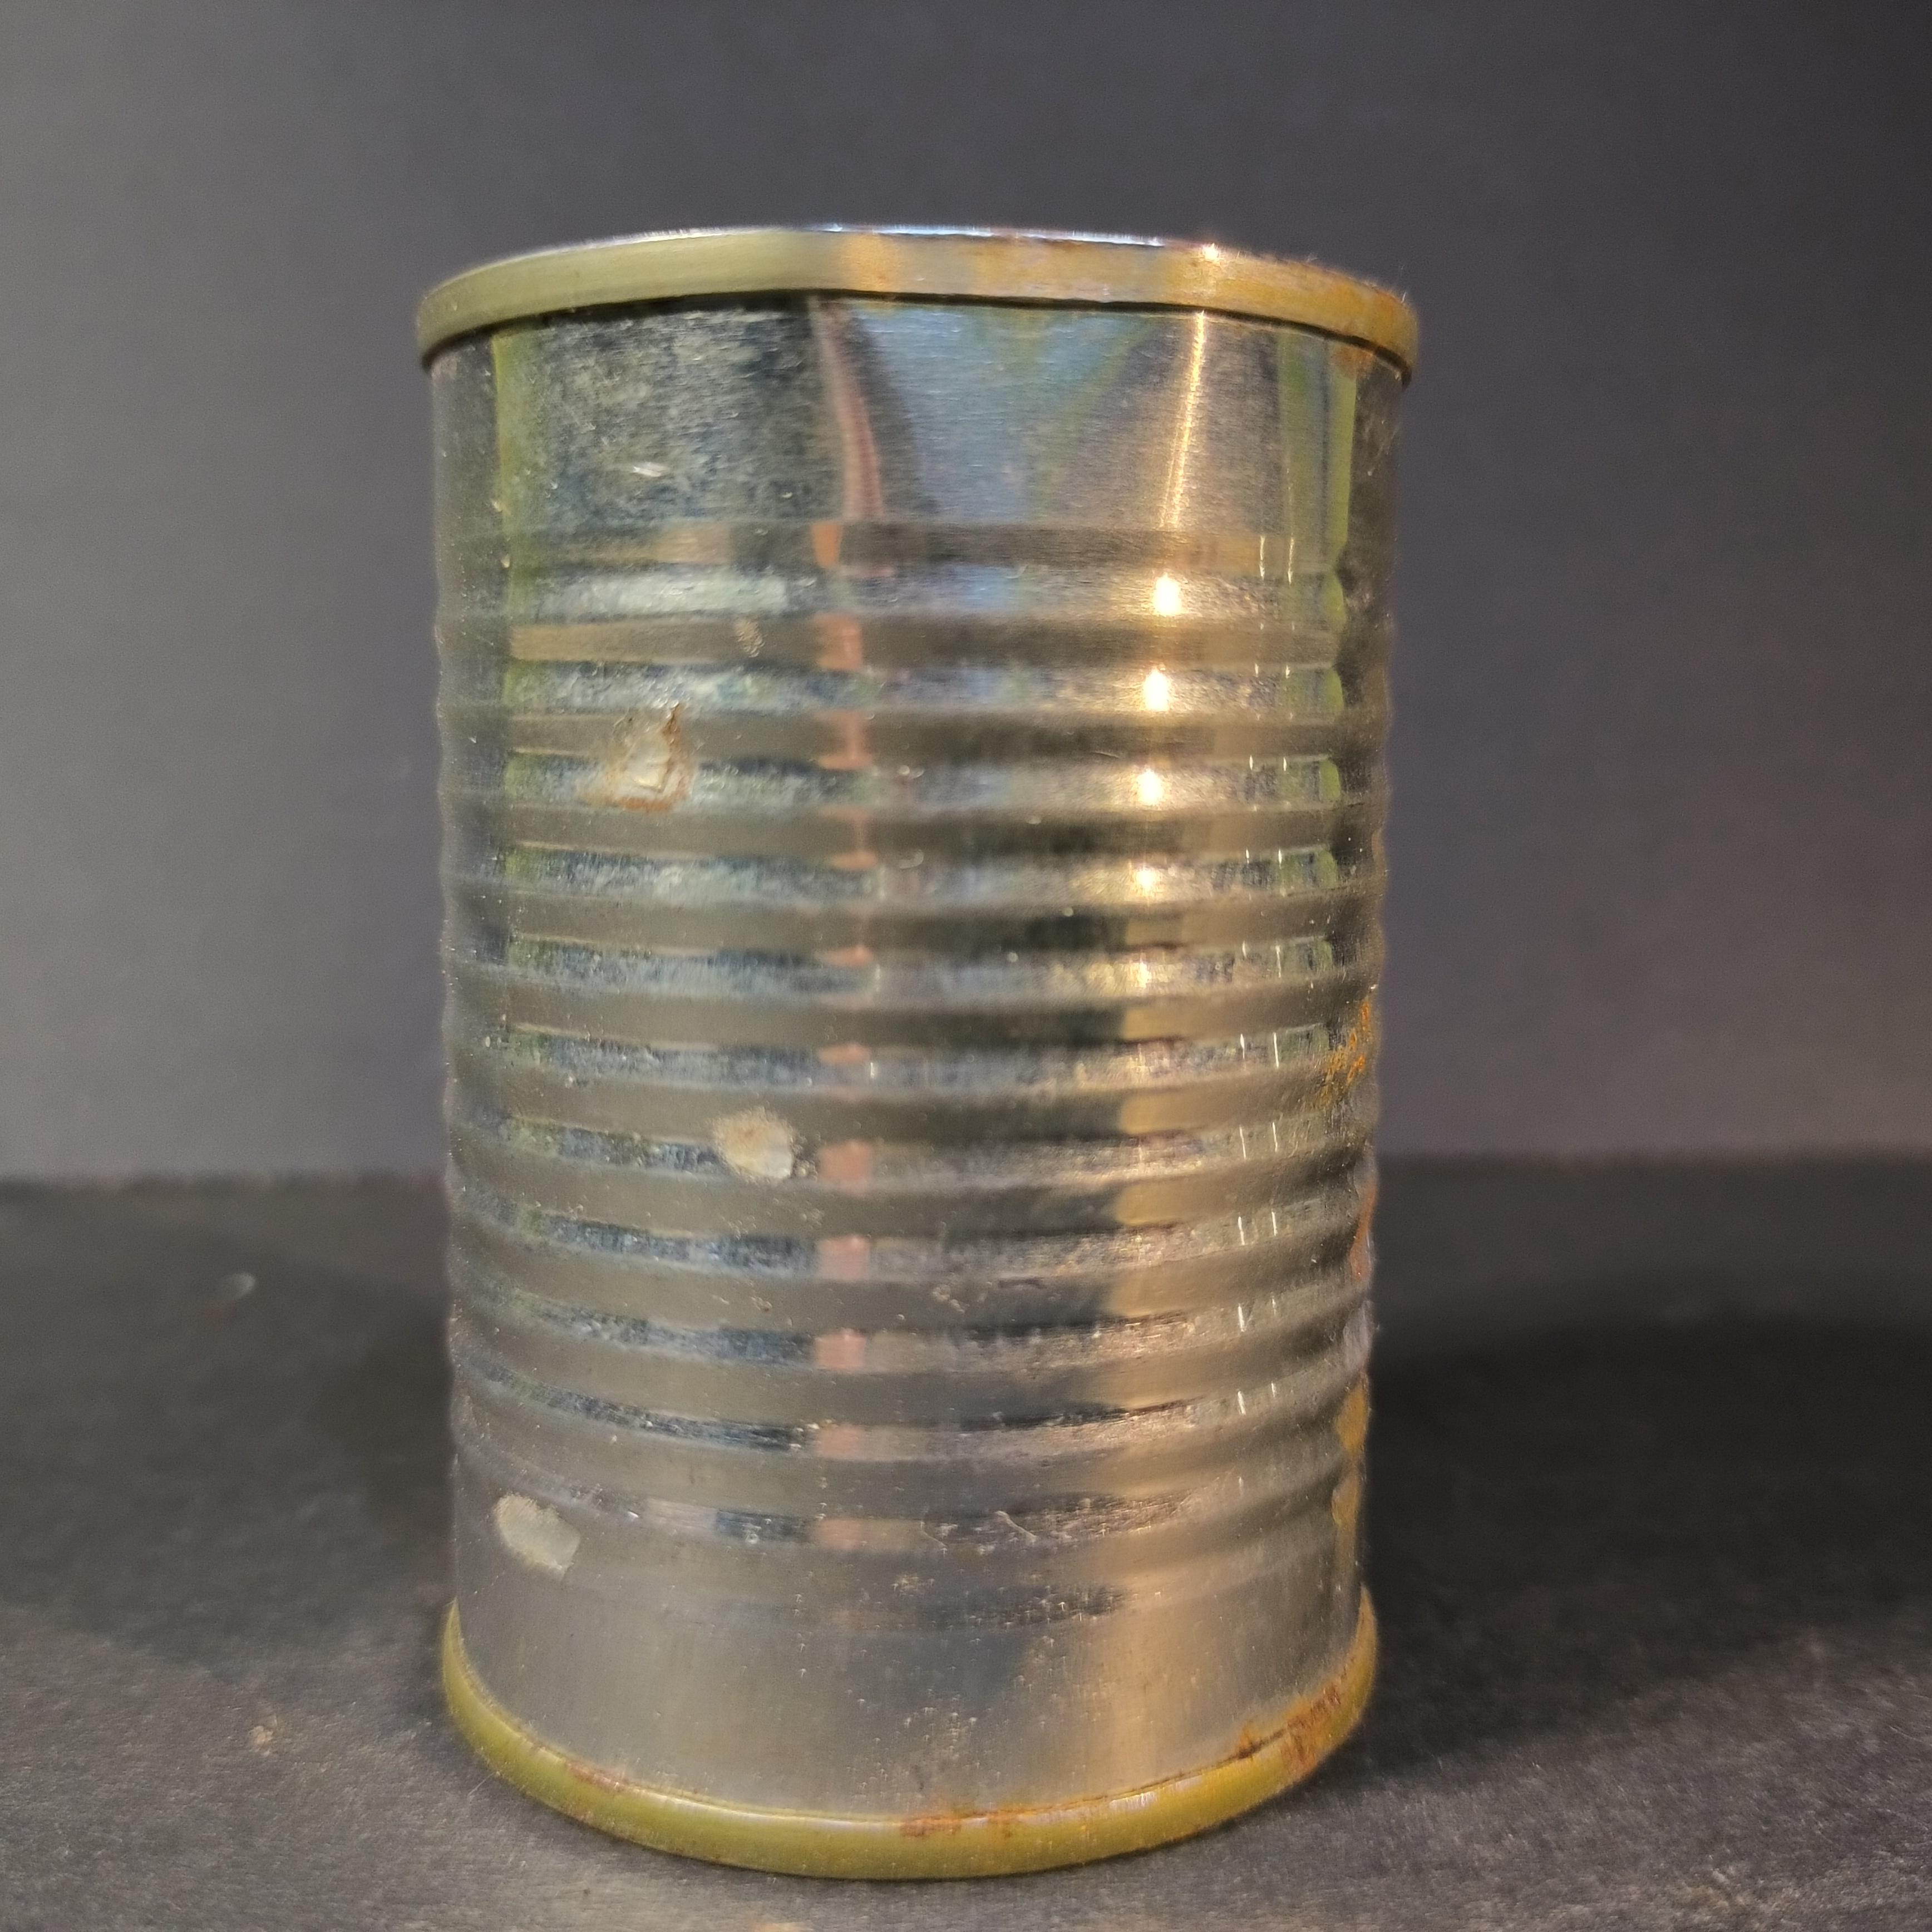Minor Defect: (418, 223, 1422, 1875)
